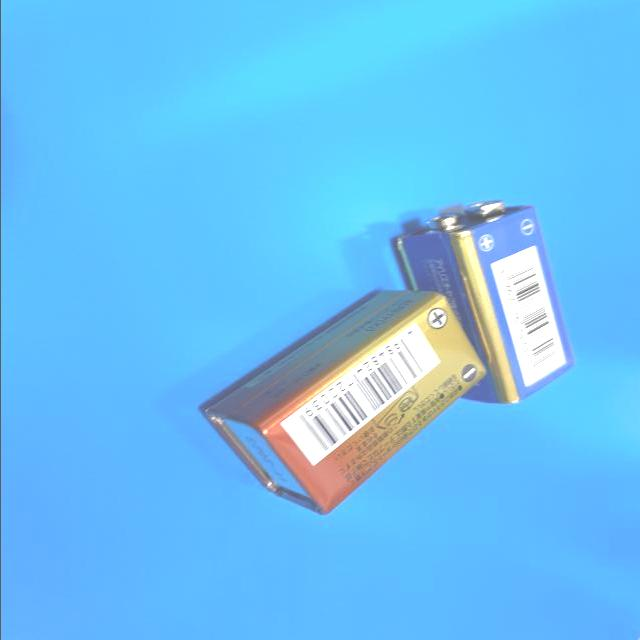9V: (200, 290, 486, 518), (392, 201, 575, 405)
